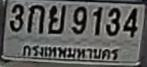1: (92, 6, 102, 34)
3: (105, 7, 120, 35), (9, 3, 23, 31)
4: (123, 7, 136, 37)
9: (71, 5, 86, 33)
A01: (26, 4, 44, 33)
A34: (47, 4, 65, 33)
BKK: (19, 40, 122, 64)
